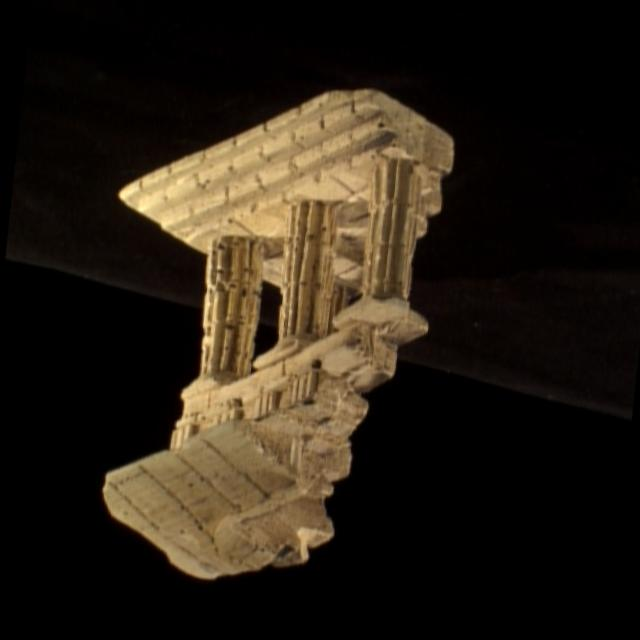Instance-Segmentation: (103, 89, 451, 578)
